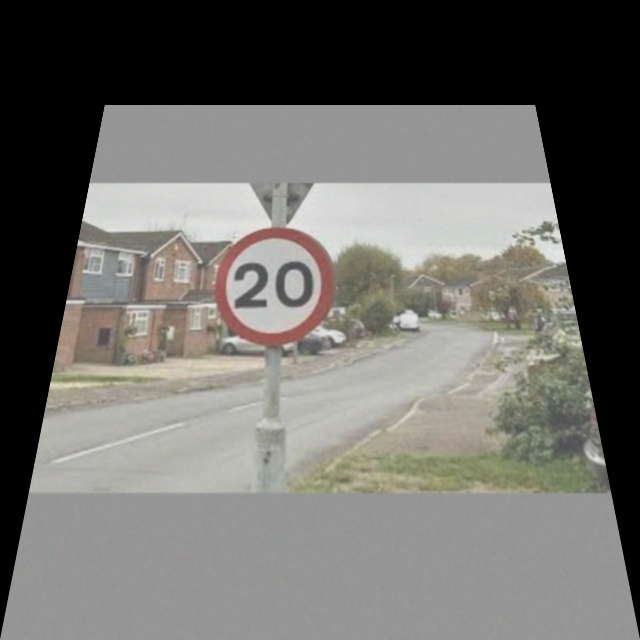Speed_Limit_20: (210, 227, 334, 343)
